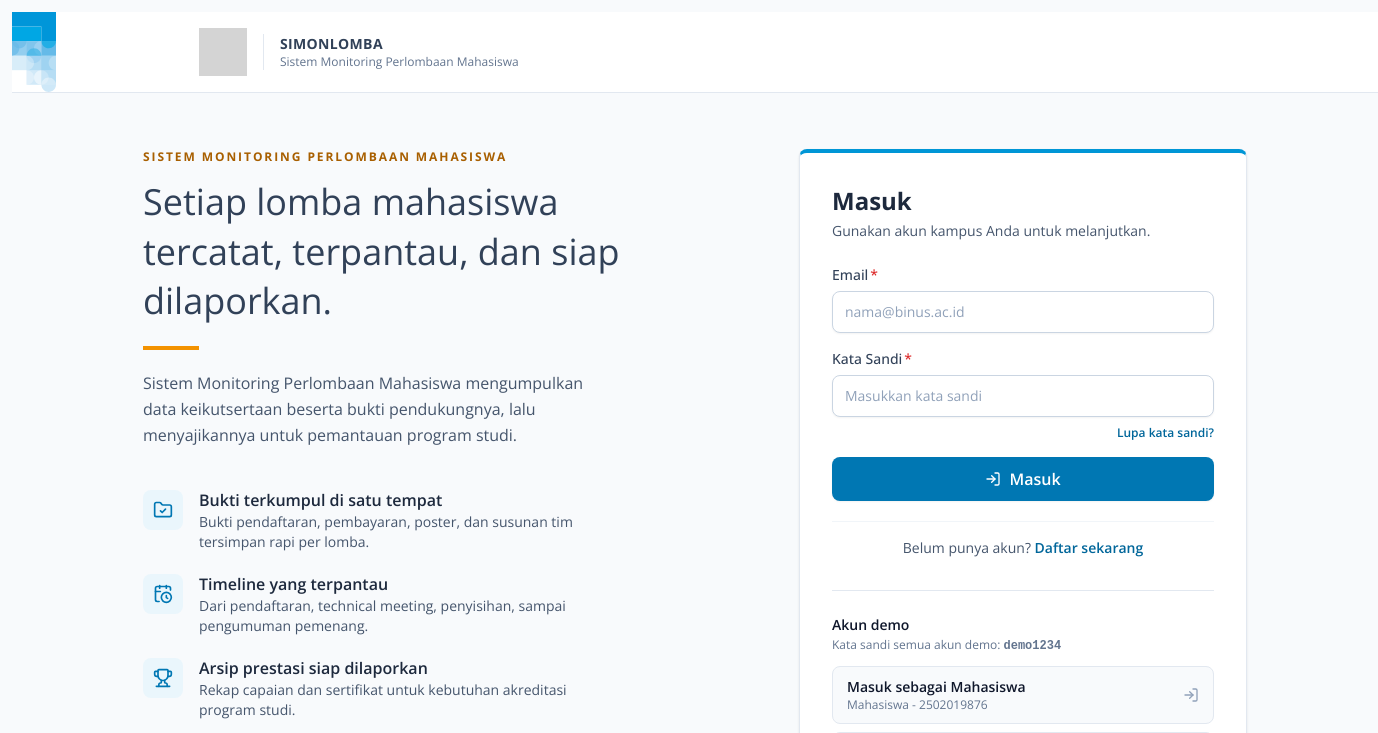
Halaman daftar › bisa dibuka dari tautan di halaman login
The image size is (1378, 733).
Step 1. Click the link "Daftar sekarang" → (1089, 548), box [1035,538,1143,557]
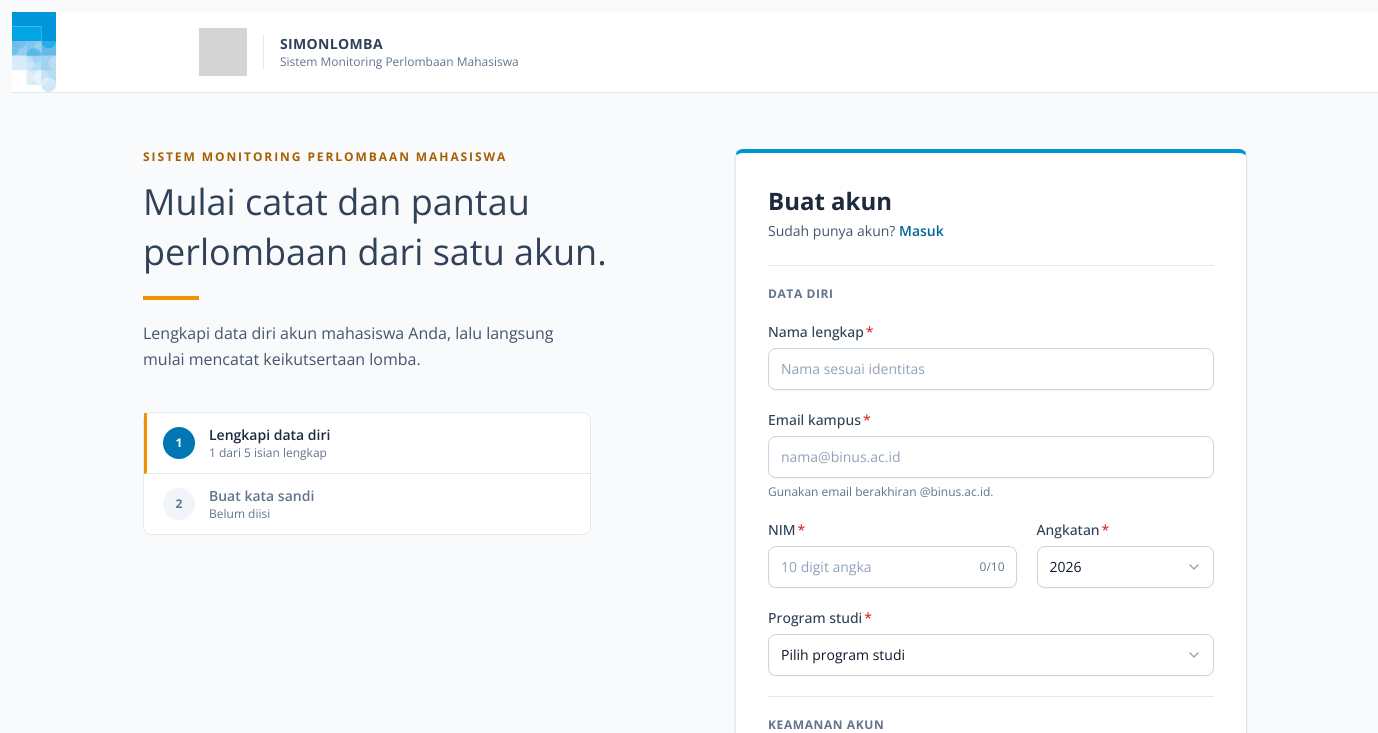
Expected: the heading "Buat akun" is shown, [768,184,892,217]
